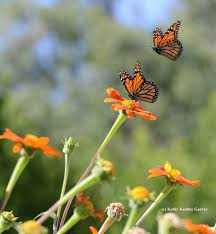insect: (120, 60, 158, 104), (150, 20, 182, 62)
